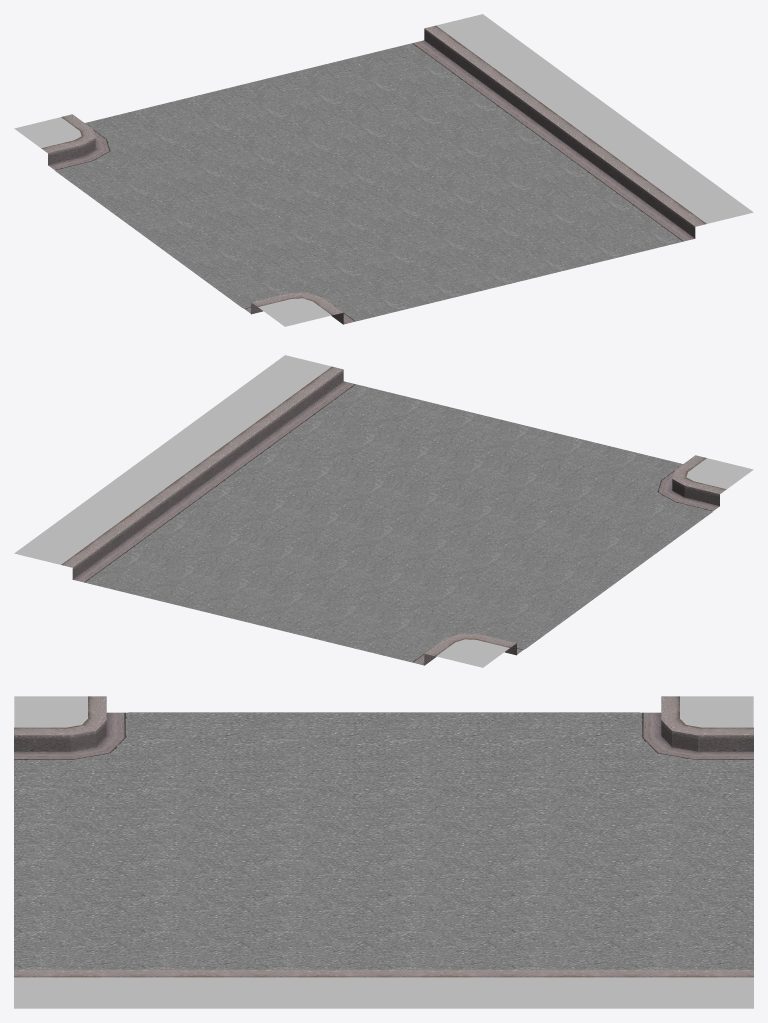
Rendered from roada41.dae.
3 renders of one model, top to bottom at view 1: azimuth 30°, elevation 25°; view 2: azimuth 150°, elevation 25°; view 3: azimuth 270°, elevation 25°, orthographic. The views are drawn at different scales.
Parts seen in each view (by area): view 1: S_Object_001_1, S_Object_001, S_Object_001_5, S_Object_001_6, S_Object_001_4, S_Object_001_3; view 2: S_Object_001_1, S_Object_001, S_Object_001_5, S_Object_001_6, S_Object_001_4, S_Object_001_3; view 3: S_Object_001_1, S_Object_001, S_Object_001_5, S_Object_001_6, S_Object_001_4, S_Object_001_2.
Part boxes in pixels (x1,y1,x2,y2): S_Object_001_1: (55, 44, 680, 320); S_Object_001: (14, 14, 753, 326); S_Object_001_5: (41, 25, 706, 315); S_Object_001_6: (48, 28, 695, 324); S_Object_001_4: (48, 40, 694, 324); S_Object_001_3: (55, 43, 683, 308); S_Object_001_1: (87, 385, 712, 661); S_Object_001: (14, 355, 753, 667); S_Object_001_5: (61, 366, 726, 656); S_Object_001_6: (72, 369, 719, 665); S_Object_001_4: (73, 381, 719, 665); S_Object_001_3: (84, 384, 712, 649); S_Object_001_1: (14, 712, 753, 969); S_Object_001: (14, 696, 753, 1008); S_Object_001_5: (14, 696, 753, 977); S_Object_001_6: (14, 720, 753, 751); S_Object_001_4: (14, 712, 753, 759); S_Object_001_2: (14, 738, 753, 760).
Bounding box in the file's own units: 2 × 0.05 × 2.
